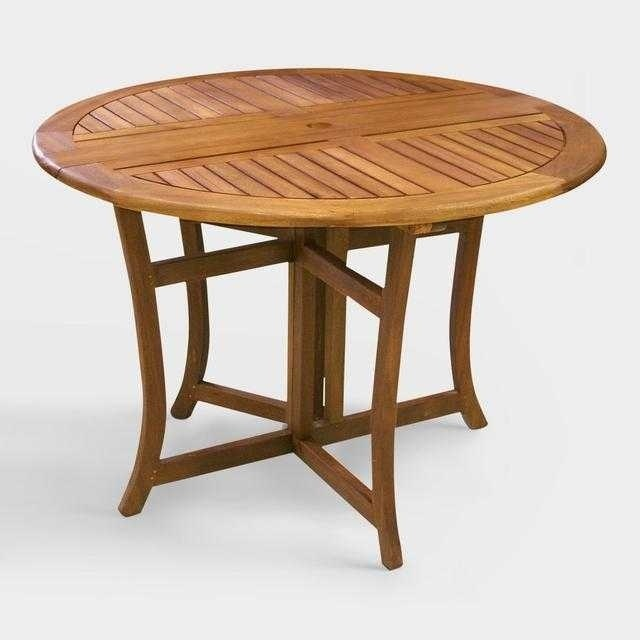obstacle: (33, 69, 605, 568)
